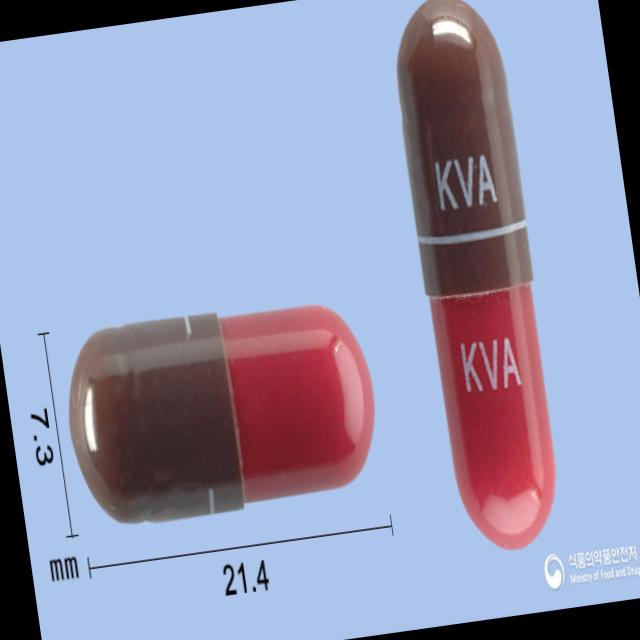Vancozin Cap-250mg: (385, 0, 573, 556)
